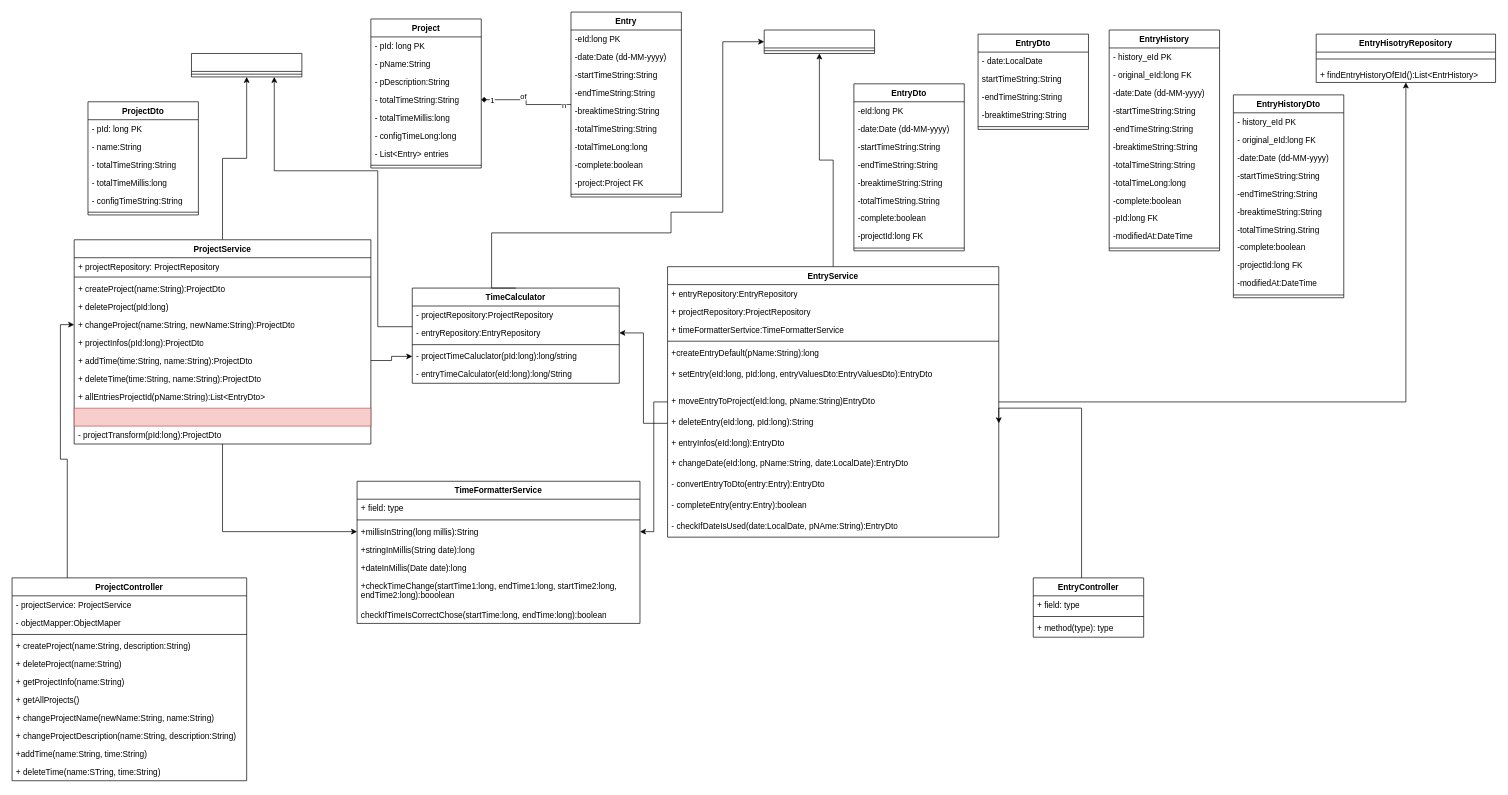
The diagram is 1508 pixels wide and 795 high, and some of its shapes have lost their labels. Each missing label, with the centre of its shape:
"- projectInfosToPdfParser(projectDto):String" belongs at (222,416).
"EntryRepository" belongs at (819,41).
"ProjectRepository" belongs at (246,65).
